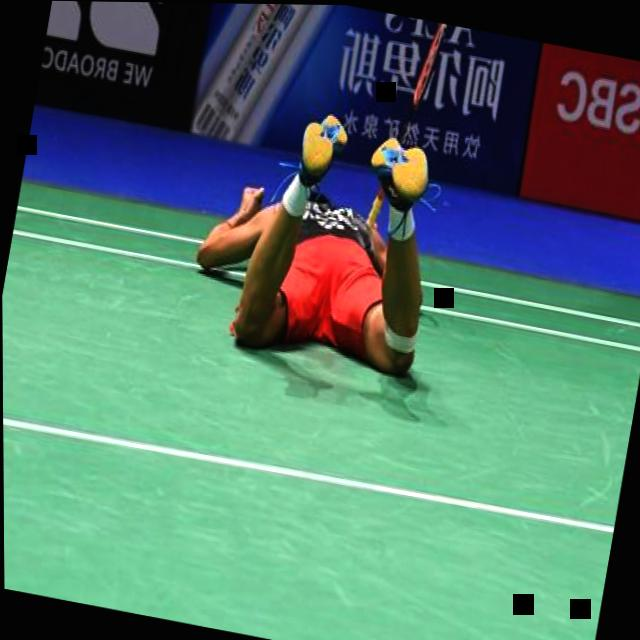Fall-Detected: (174, 71, 485, 391)
